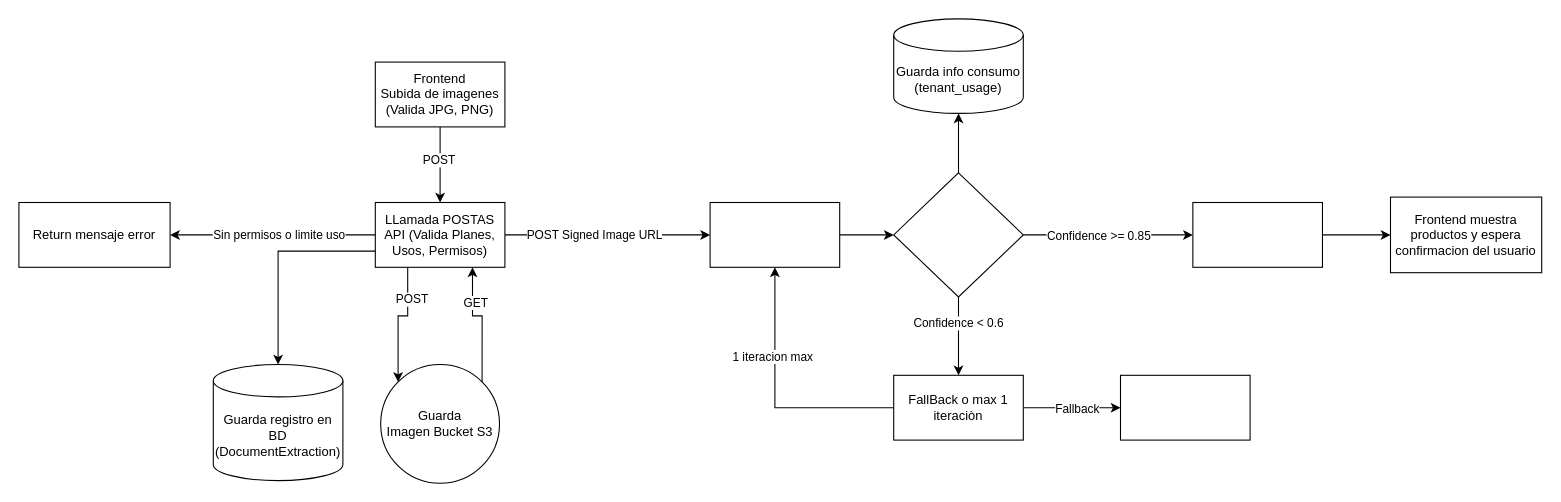
Image size: 1561x502. Some labels were removed from this diagram. The shapes that lost their labels are listed below. From the top down, each one's centre as x and y in pixels, then its label:
At (774,234): "Llamada API IA".
At (958,234): "Service Extrae informacion de la Factura".
At (1257,234): "Retorna JSON de productos y confidence score".
At (1184,407): "Mensaje error o fuera de servicio".
